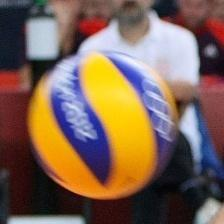Sports-Ball: (27, 54, 180, 202)
